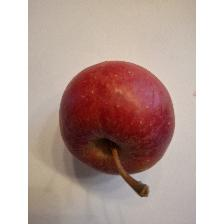Apfel: (46, 57, 178, 198)
